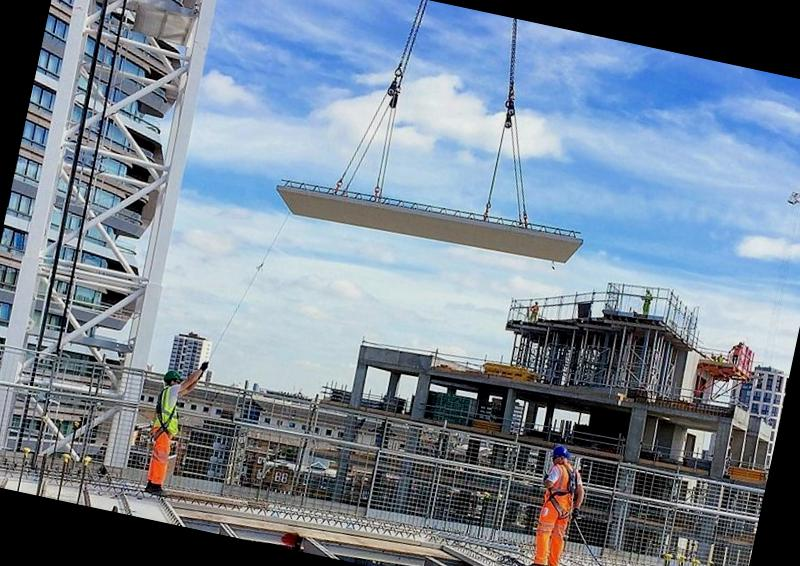helmet: (546, 444, 572, 463), (159, 368, 182, 386)
person: (509, 436, 600, 566), (125, 360, 202, 503)
